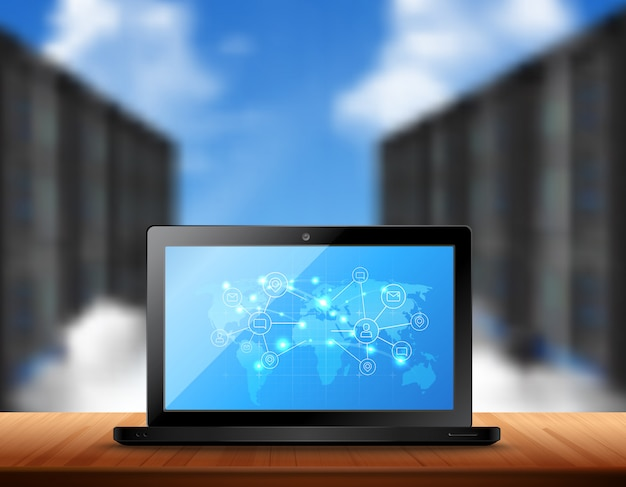laptop: (113, 228, 500, 443)
